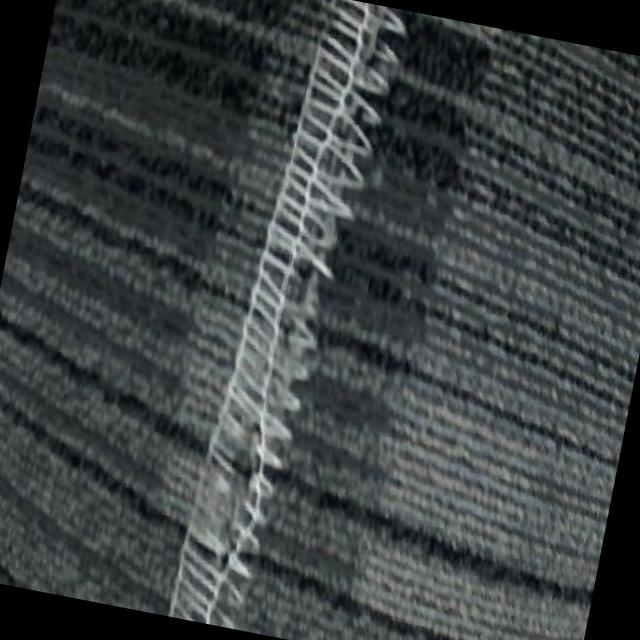gray stitch: (166, 280, 324, 634), (254, 0, 407, 299)
